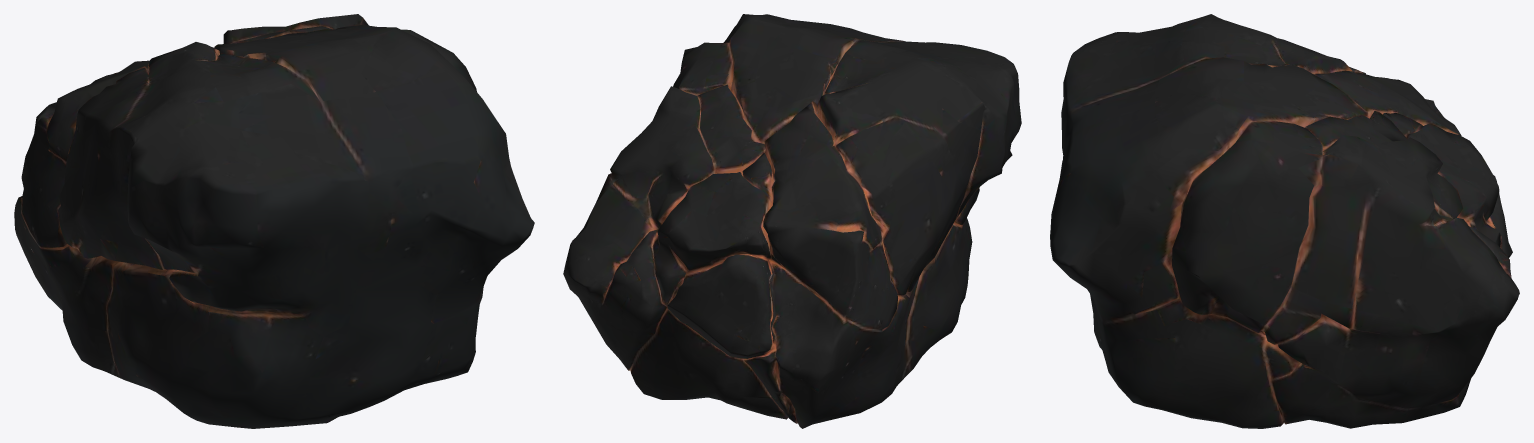
Rendered from mines-rock-chunk.glb.
3 renders of one model, left to right at view 1: azimuth 30°, elevation 25°; view 2: azimuth 150°, elevation 25°; view 3: azimuth 270°, elevation 25°, orthographic. The views are drawn at different scales.
Bounding box in the file's own units: 0.8196 × 0.7384 × 1.
1 material, 1 textured.
